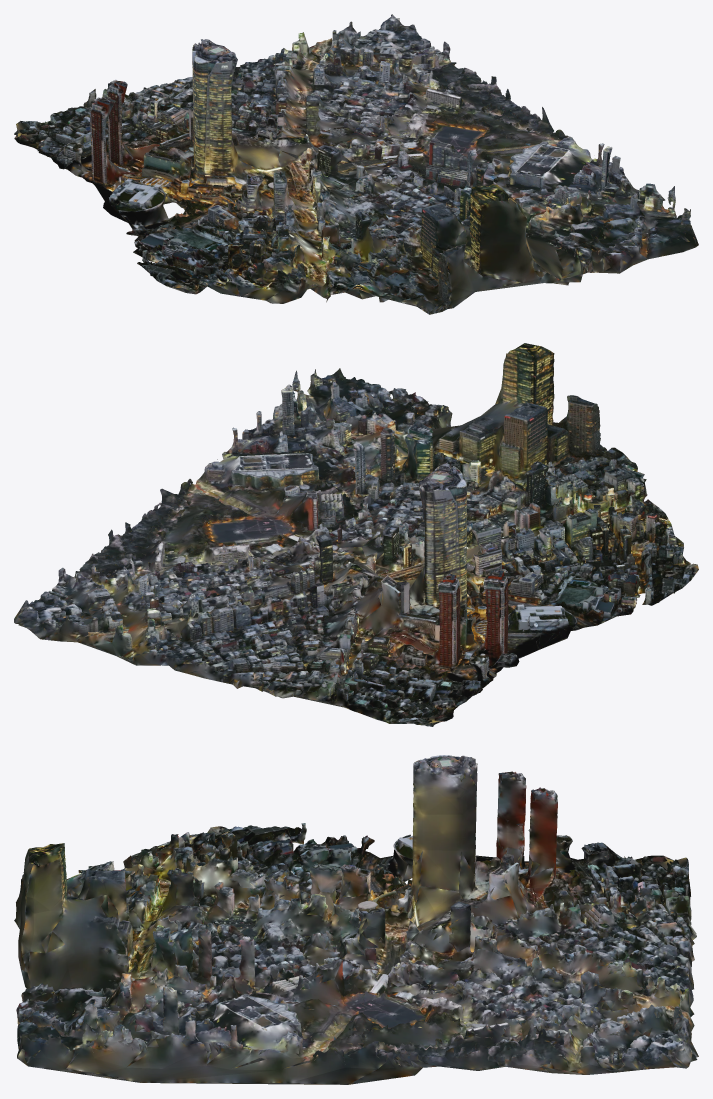
File: sf-osaka-downtown-53e098.glb
3 renders of one model, top to bottom at view 1: azimuth 30°, elevation 25°; view 2: azimuth 150°, elevation 25°; view 3: azimuth 270°, elevation 25°, orthographic. The views are drawn at different scales.
Visible parts, largest first — view 1: meshNode_Material_u1_v1_0; view 2: meshNode_Material_u1_v1_0; view 3: meshNode_Material_u1_v1_0.
Boxes of the visible parts, box(x1,y1,x2,y2) form: meshNode_Material_u1_v1_0: box(14, 14, 698, 314); meshNode_Material_u1_v1_0: box(14, 343, 698, 726); meshNode_Material_u1_v1_0: box(14, 755, 698, 1084).
Size of the model in its own units: 49.04 by 16.78 by 58.84.
Materials: 1 (1 with a texture image).
